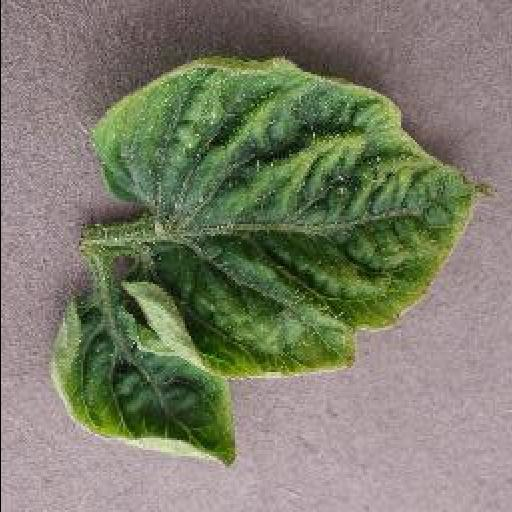disease_tomato: (96, 54, 490, 382), (44, 287, 234, 466)
